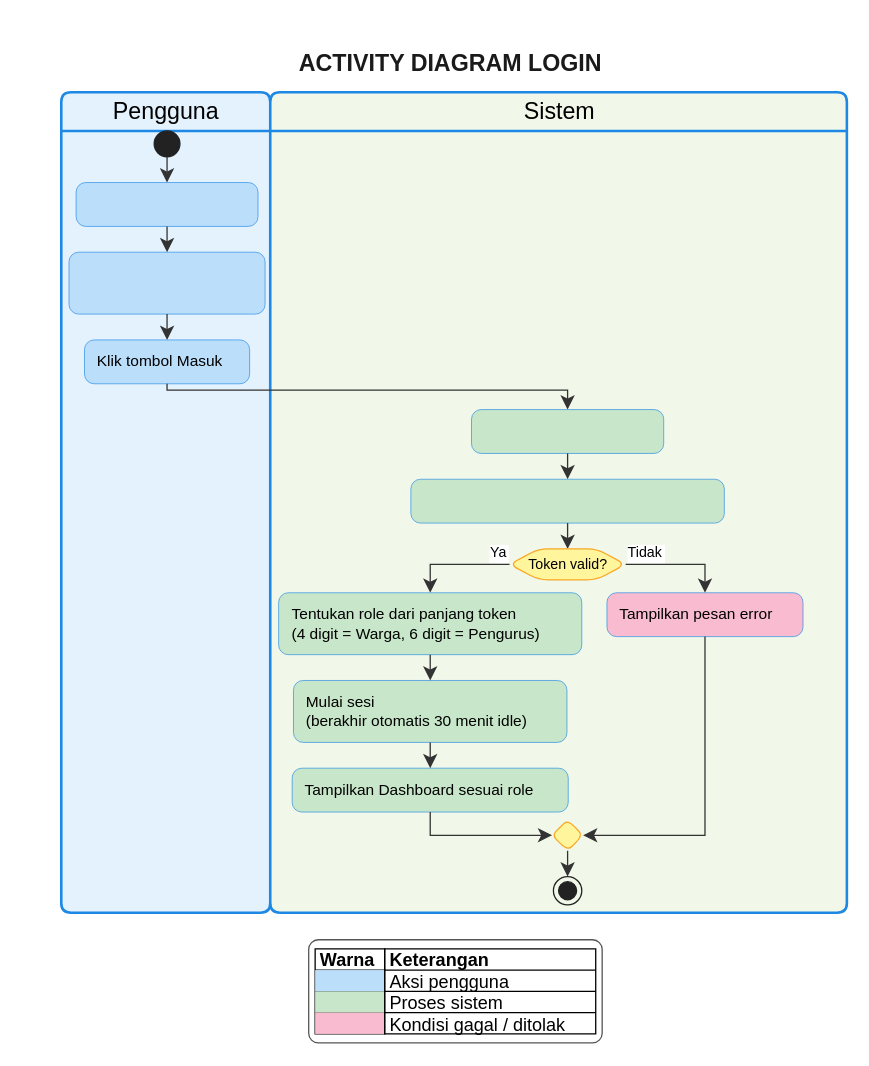
This 869x1066 diagram has some shape labels left out. The box of each missing label's shape, as (x1, y1, x2, y2) in pixels:
Buka aplikasi VISIBLE: (75, 182, 258, 226)
Masukkan ID dan Password: (68, 251, 265, 314)
Periksa panjang token: (471, 409, 663, 453)
Validasi token dengan hash tersimpan: (410, 478, 724, 523)
